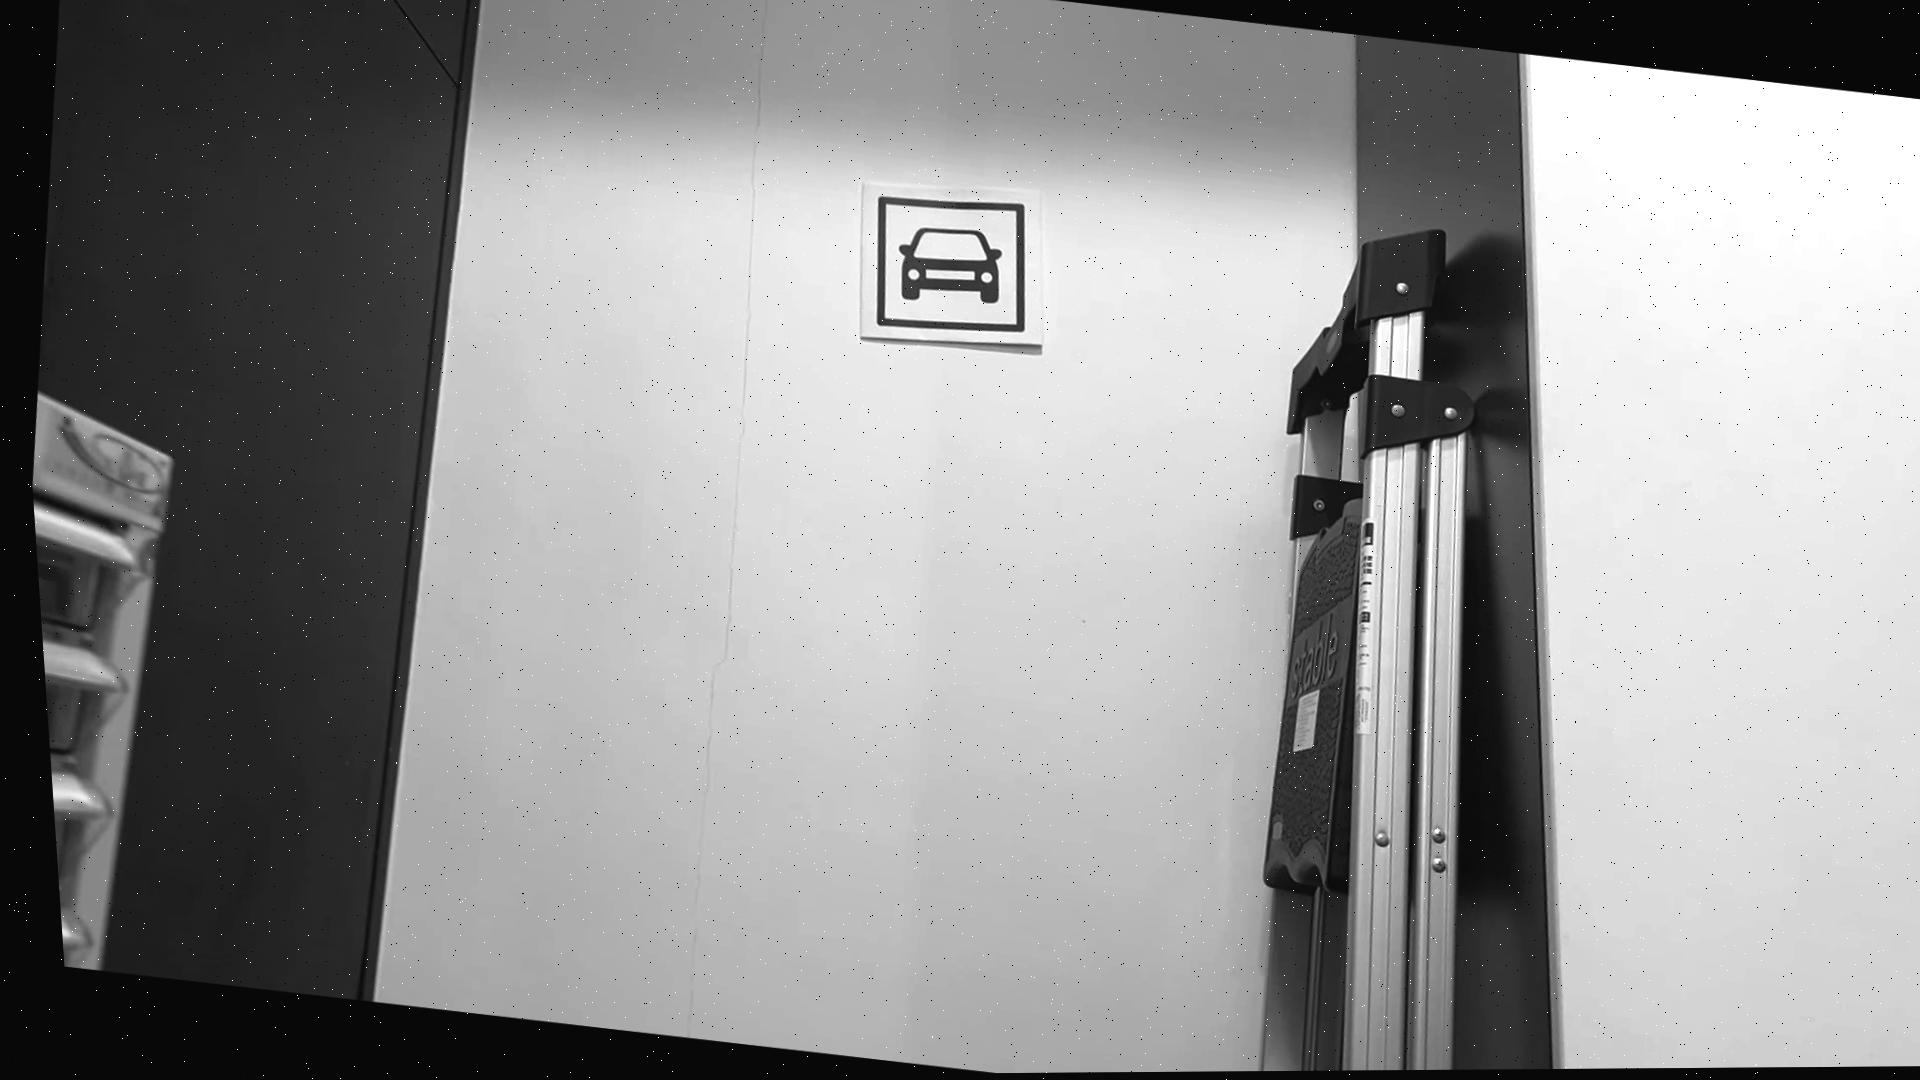car_img: (857, 186, 1036, 345)
